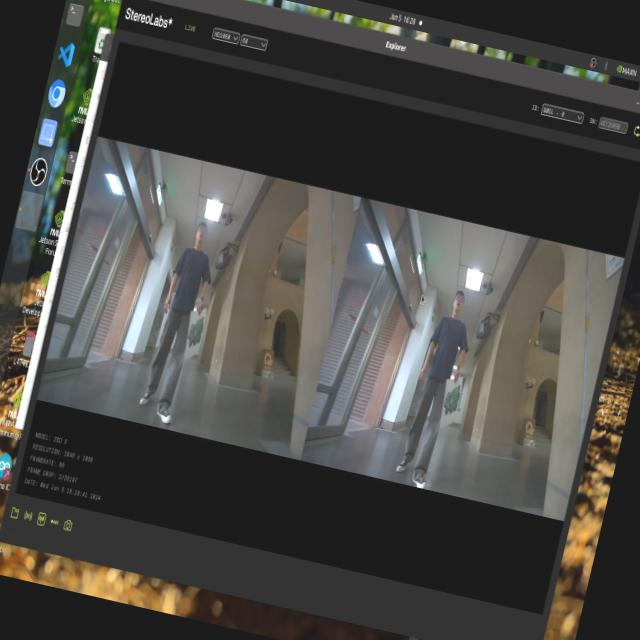green: (438, 368, 473, 424), (178, 306, 210, 348)
